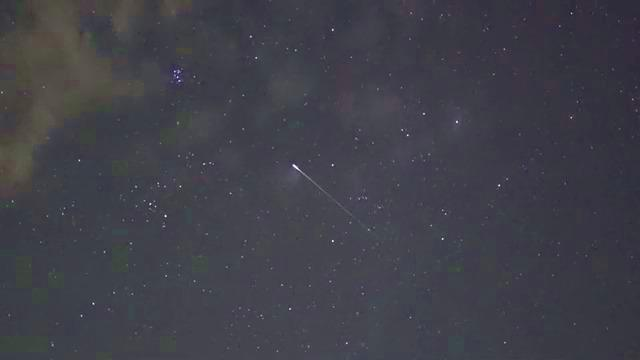meteorite: (272, 155, 382, 235)
